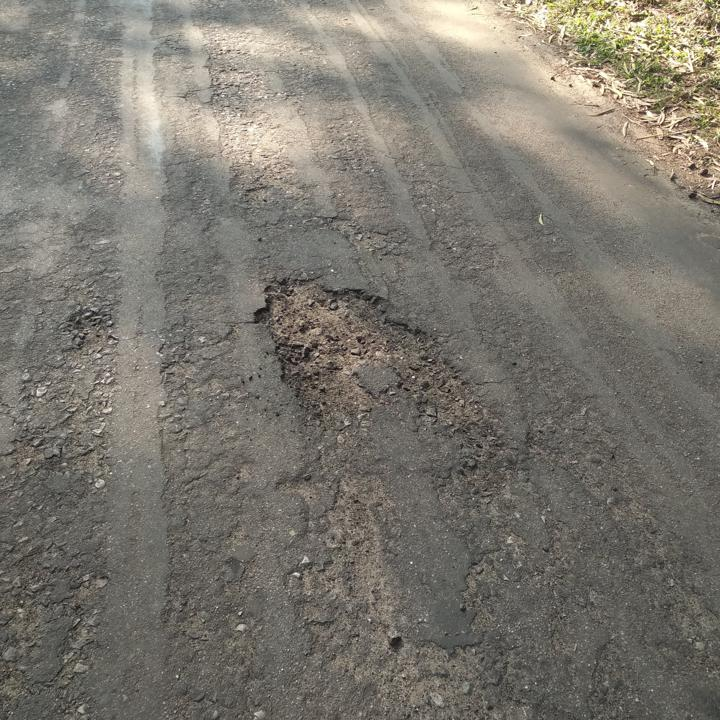pothole: (250, 274, 468, 426), (64, 305, 119, 358)
